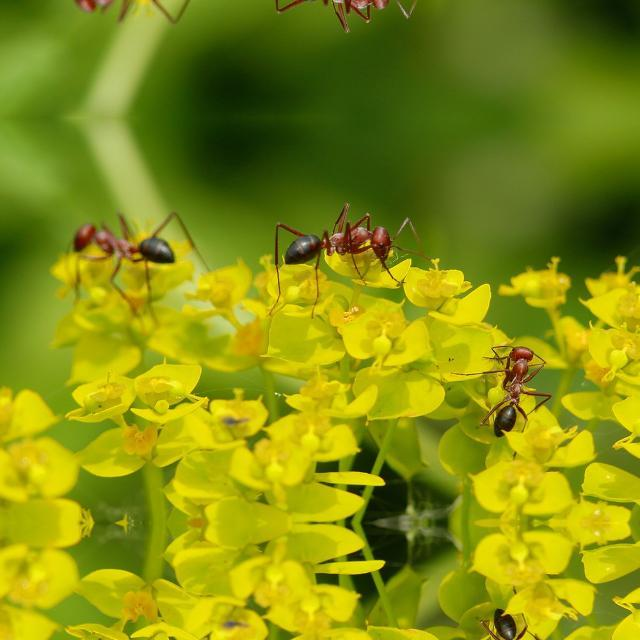Cataglyphis: (260, 202, 426, 280), (60, 204, 202, 282), (469, 332, 556, 438), (259, 0, 424, 30), (60, 0, 202, 28), (468, 606, 556, 640)
